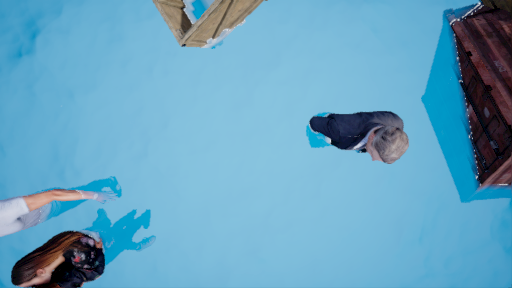person: (3, 181, 155, 285), (289, 109, 423, 174)
